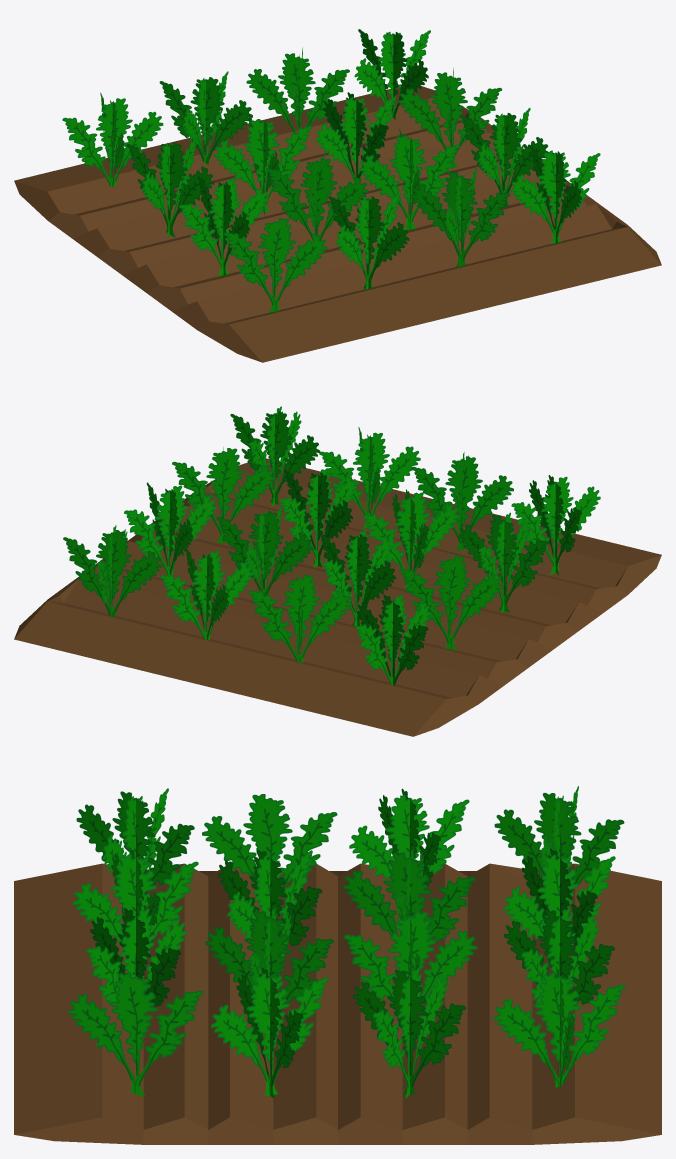
Rendered from carrot-stage2-w-Dirt.glb.
The picture shows the model from 3 angles, top to bottom: view 1: azimuth 30°, elevation 25°; view 2: azimuth 150°, elevation 25°; view 3: azimuth 270°, elevation 25°; orthographic projection. The views are drawn at different scales.
Parts seen in each view (by area): view 1: Soil.006, Carrot_F2; view 2: Soil.006, Carrot_F2; view 3: Soil.006, Carrot_F2.
Part boxes in pixels (<box>): Soil.006: <box>14,86,661,362</box>; Carrot_F2: <box>62,29,600,312</box>; Soil.006: <box>14,458,661,736</box>; Carrot_F2: <box>63,406,600,685</box>; Soil.006: <box>14,863,661,1144</box>; Carrot_F2: <box>68,786,625,1098</box>.
Bounding box in the file's own units: 2.5 × 0.5318 × 2.5.
2 materials, 1 textured.
